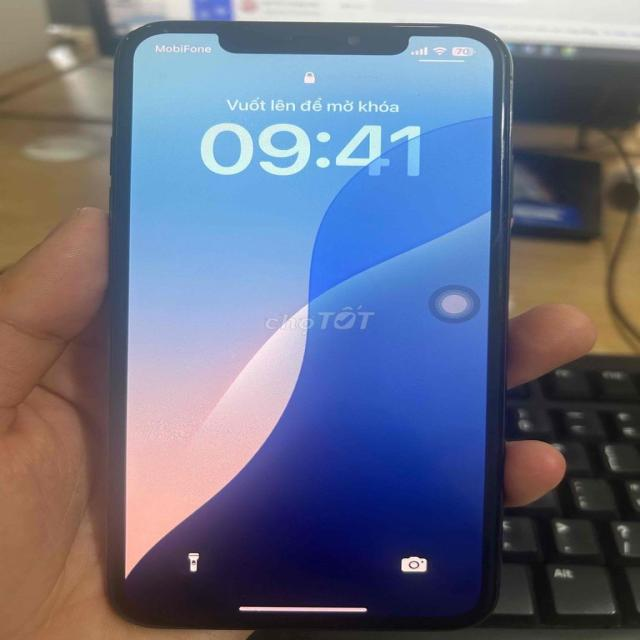gen_x_xs: (107, 21, 511, 629)
